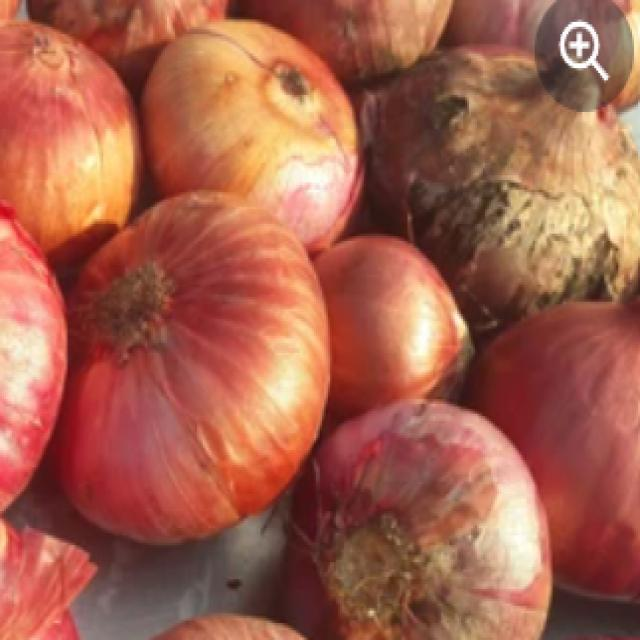rotten: (400, 98, 614, 300)
